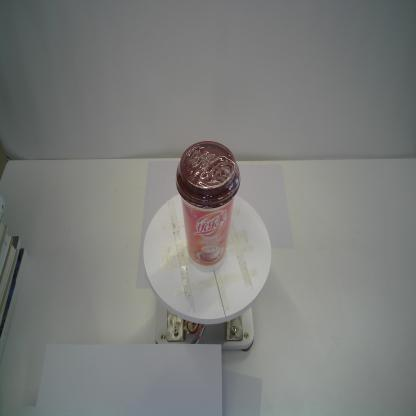Instant Drink: (176, 140, 240, 273)
